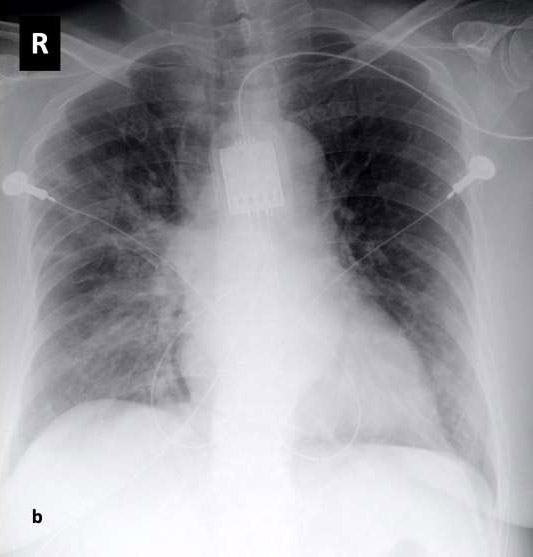Severe: (16, 44, 222, 429), (285, 32, 466, 324)
